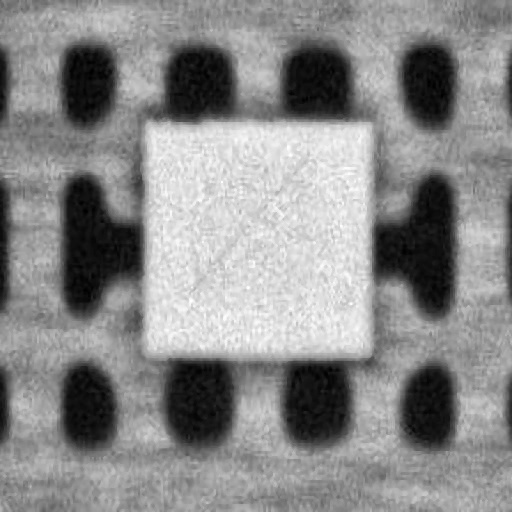DIE_CRACK: (281, 105, 454, 193)
